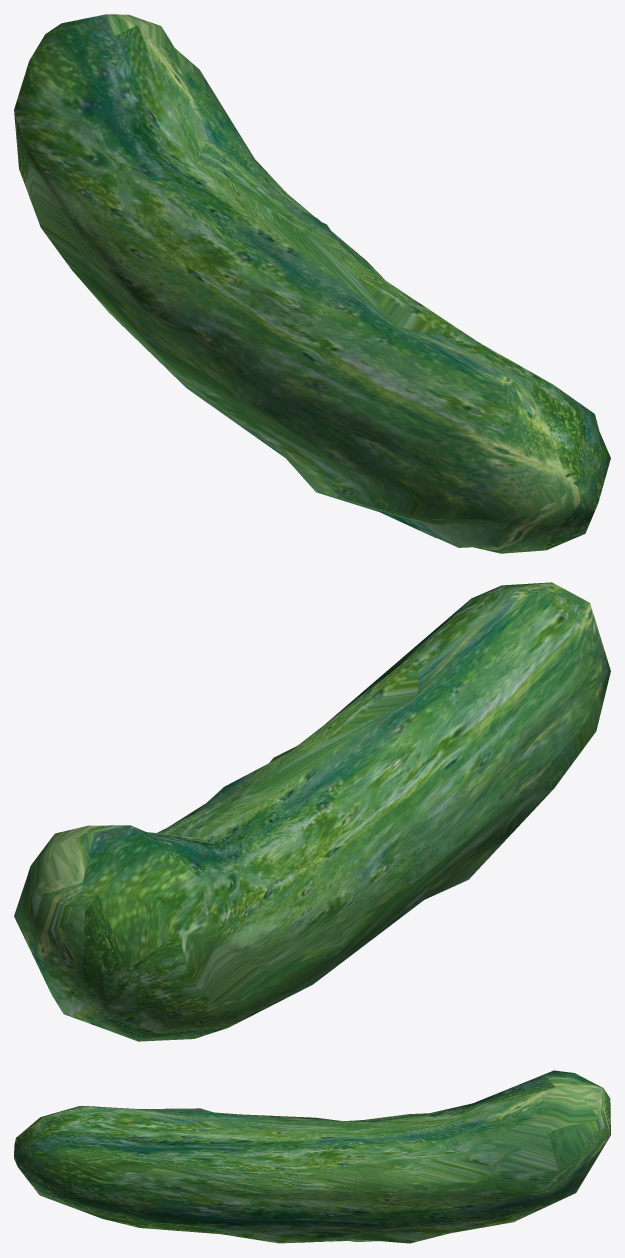
File: cucumber.obj
3 renders of one model, top to bottom at view 1: azimuth 30°, elevation 25°; view 2: azimuth 150°, elevation 25°; view 3: azimuth 270°, elevation 25°, orthographic. The views are drawn at different scales.
Visible parts, largest first — view 1: cucumber; view 2: cucumber; view 3: cucumber.
Boxes of the visible parts, bbox=[...] form: cucumber: bbox=[14, 14, 610, 553]; cucumber: bbox=[14, 582, 610, 1041]; cucumber: bbox=[14, 1070, 610, 1243].
Size of the model in its own units: 0.0705 by 0.0968 by 0.3187.
1 material, 1 textured.
